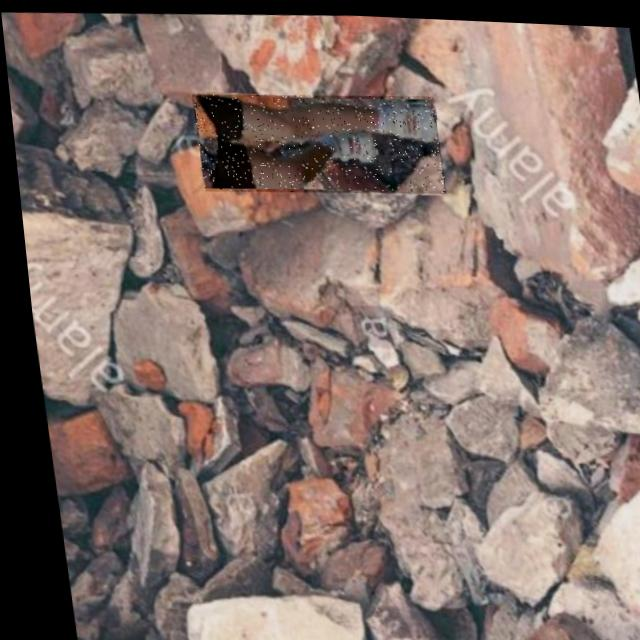Person in Rubble: (189, 83, 443, 196)
